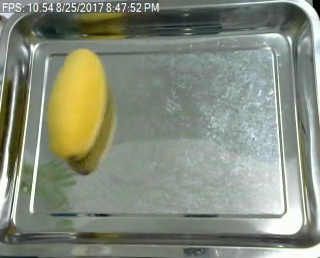Mango: (44, 45, 108, 165)
